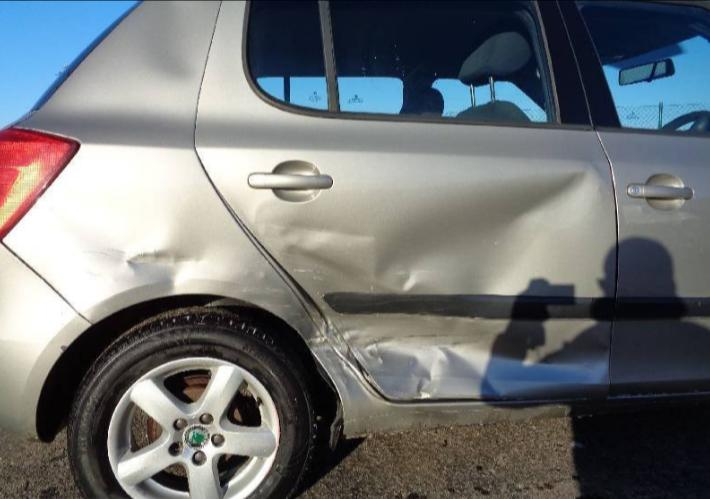Broken part: (221, 194, 391, 398)
Corrosion: (343, 409, 620, 439), (24, 430, 49, 443)
Dent: (253, 165, 610, 399), (66, 212, 239, 304), (285, 296, 377, 399), (129, 0, 210, 85), (407, 403, 492, 431), (242, 268, 270, 280)
Paint chip: (60, 344, 69, 357)
Scratch: (344, 402, 575, 426), (265, 223, 377, 240), (78, 247, 196, 260), (623, 206, 699, 223), (400, 330, 512, 338), (413, 337, 481, 350), (286, 312, 325, 325), (234, 286, 289, 295), (286, 267, 328, 277), (391, 269, 433, 276), (82, 269, 106, 279), (363, 336, 390, 344), (305, 335, 326, 344), (261, 303, 293, 308)
